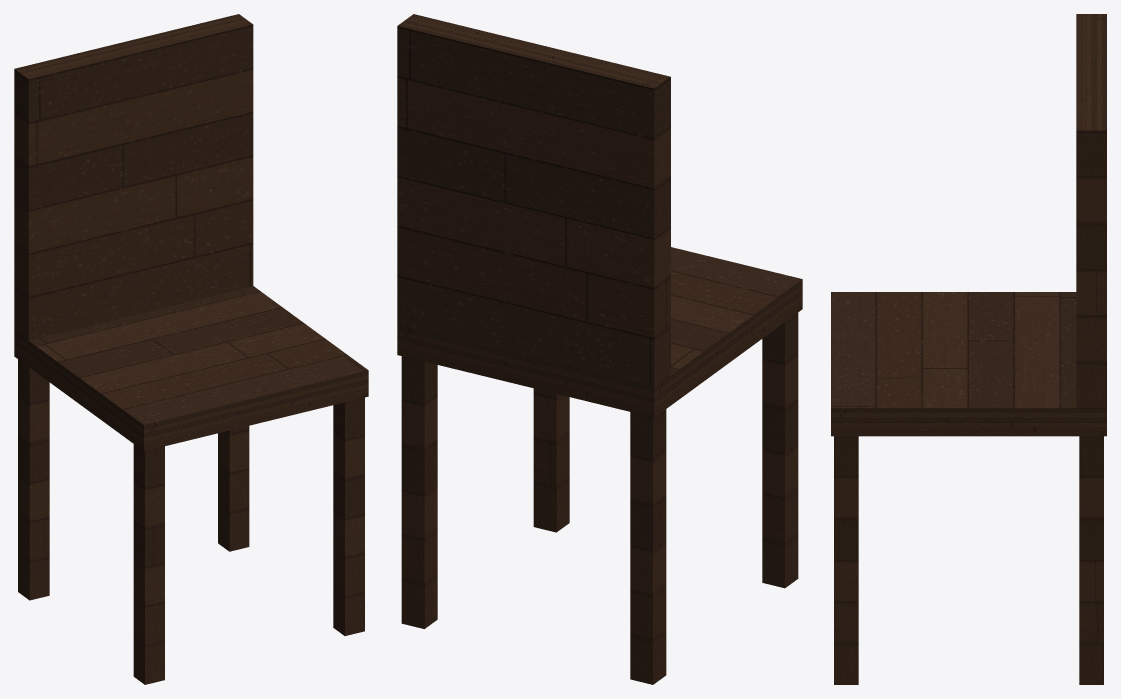
Rendered from chair.glb.
3 renders of one model, left to right at view 1: azimuth 30°, elevation 25°; view 2: azimuth 150°, elevation 25°; view 3: azimuth 270°, elevation 25°, orthographic. The views are drawn at different scales.
Visible parts, largest first — view 1: chair; view 2: chair; view 3: chair.
Boxes of the visible parts, bbox=[...] form: chair: bbox=[14, 14, 368, 684]; chair: bbox=[397, 14, 802, 684]; chair: bbox=[831, 14, 1106, 684].
Size of the model in its own units: 0.45 by 1 by 0.45.
Materials: 6 (6 with a texture image).
